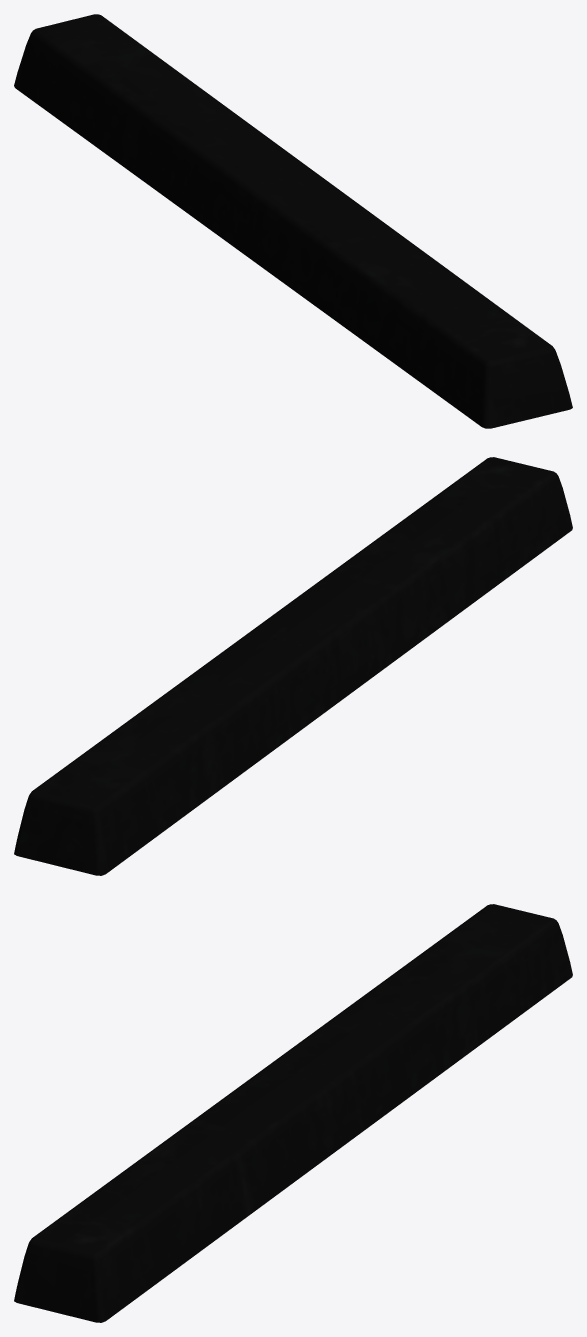
Rendered from space.glb.
3 views of the same model, one above another, from view 1: azimuth 30°, elevation 25°; view 2: azimuth 150°, elevation 25°; view 3: azimuth 330°, elevation 25° (orthographic).
Parts seen in each view (by area): view 1: SpaceBar; view 2: SpaceBar; view 3: SpaceBar.
Part boxes in pixels (x1,y1,x2,y2): SpaceBar: [14, 14, 572, 428]; SpaceBar: [14, 457, 572, 875]; SpaceBar: [14, 904, 572, 1322].
Bounding box in the file's own units: 0.0234 × 0.0145 × 0.2074.
Materials: 1 (1 with a texture image).
